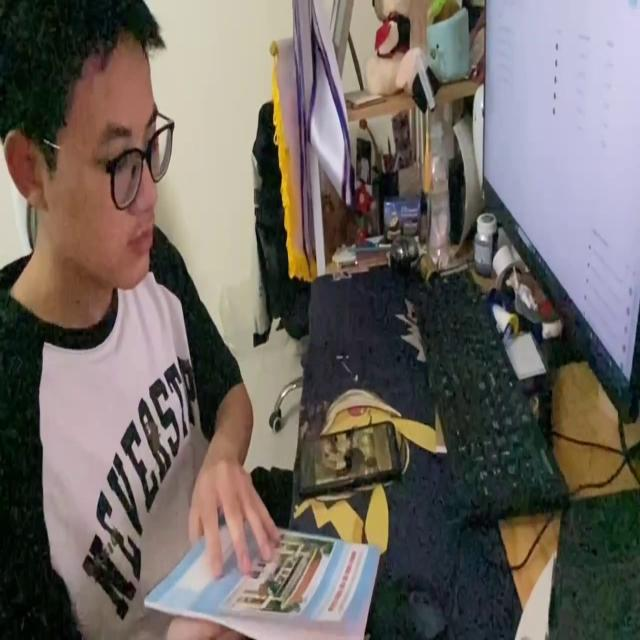book: (133, 514, 378, 640)
laptop: (479, 2, 640, 426)
phone: (290, 422, 404, 497)
student: (1, 0, 279, 640)
